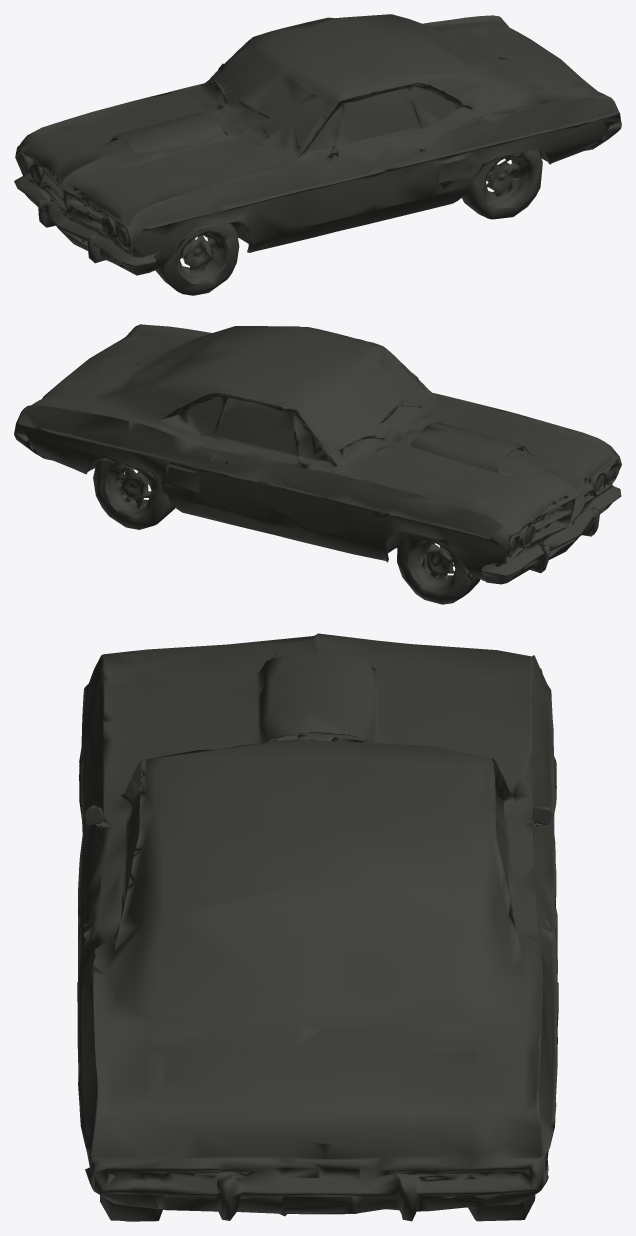
The model's file is car_muscle_light_q0.glb.
3 views of the same model, one above another, from view 1: azimuth 30°, elevation 25°; view 2: azimuth 150°, elevation 25°; view 3: azimuth 270°, elevation 25° (orthographic). The views are drawn at different scales.
Bounding box in the file's own units: 4.55 × 1.34 × 1.83.
1 material, 1 textured.
